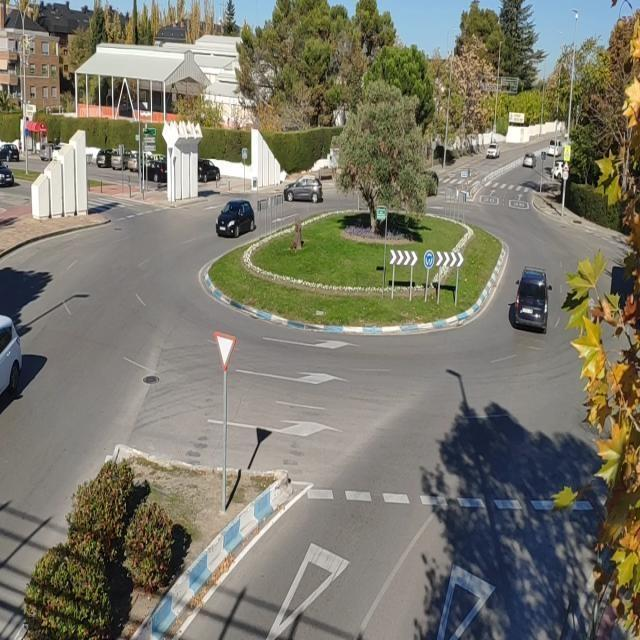Car: (215, 198, 258, 239), (282, 176, 324, 205)
Van: (511, 268, 554, 329)
